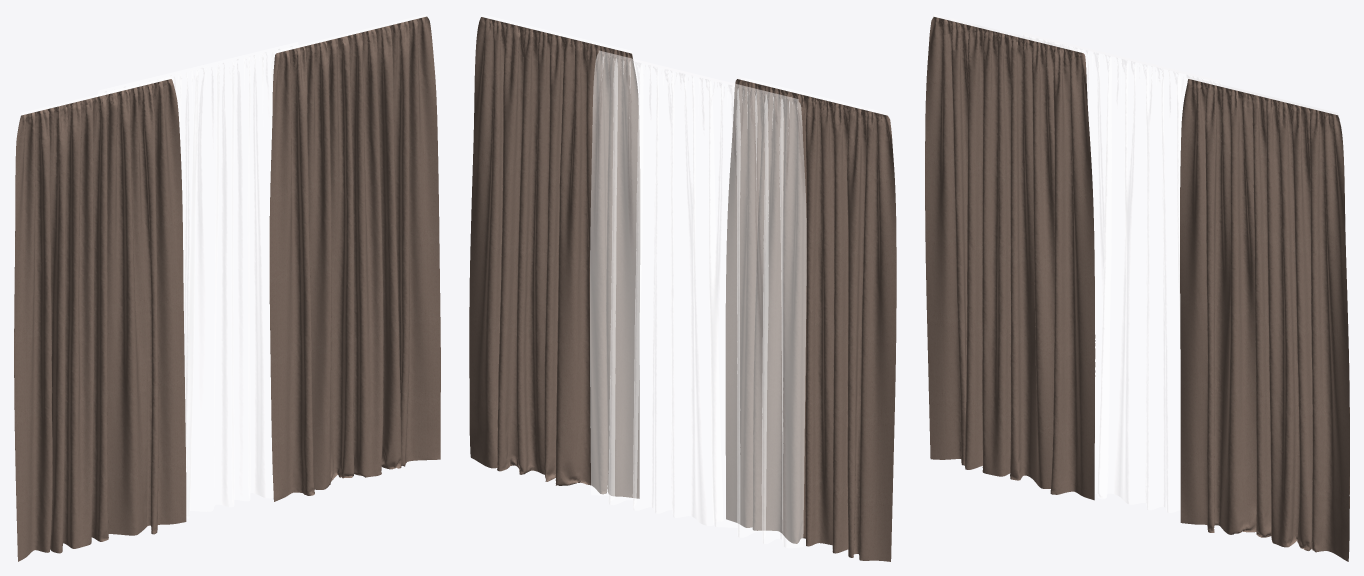
Rendered from curtain_brown_modern.glb.
The picture shows the model from 3 angles, left to right: view 1: azimuth 30°, elevation 25°; view 2: azimuth 150°, elevation 25°; view 3: azimuth 330°, elevation 25°; orthographic projection.
Visible parts, largest first — view 1: Object_2, Object_7; view 2: Object_2, Object_7; view 3: Object_2, Object_7.
Boxes of the visible parts, left/top/right/bottom form: Object_2: left=14, top=16, right=440, bottom=561; Object_7: left=21, top=14, right=426, bottom=518; Object_2: left=469, top=17, right=896, bottom=561; Object_7: left=481, top=14, right=887, bottom=547; Object_2: left=925, top=17, right=1349, bottom=561; Object_7: left=934, top=14, right=1337, bottom=512.
Bounding box in the file's own units: 403 × 405 × 34.47.
Materials: 2 (2 with a texture image).
